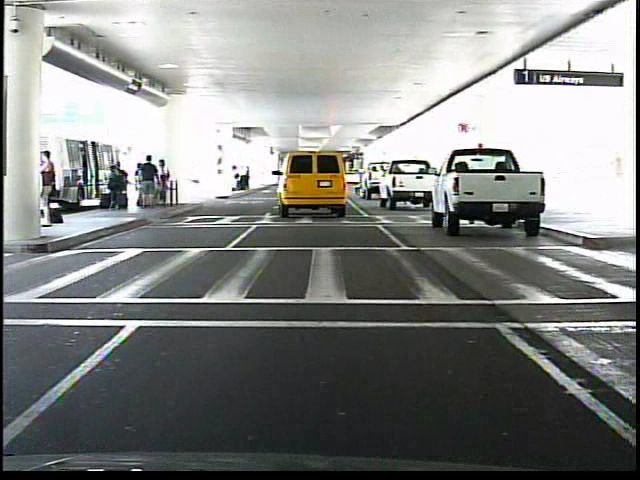person: (45, 147, 59, 229)
